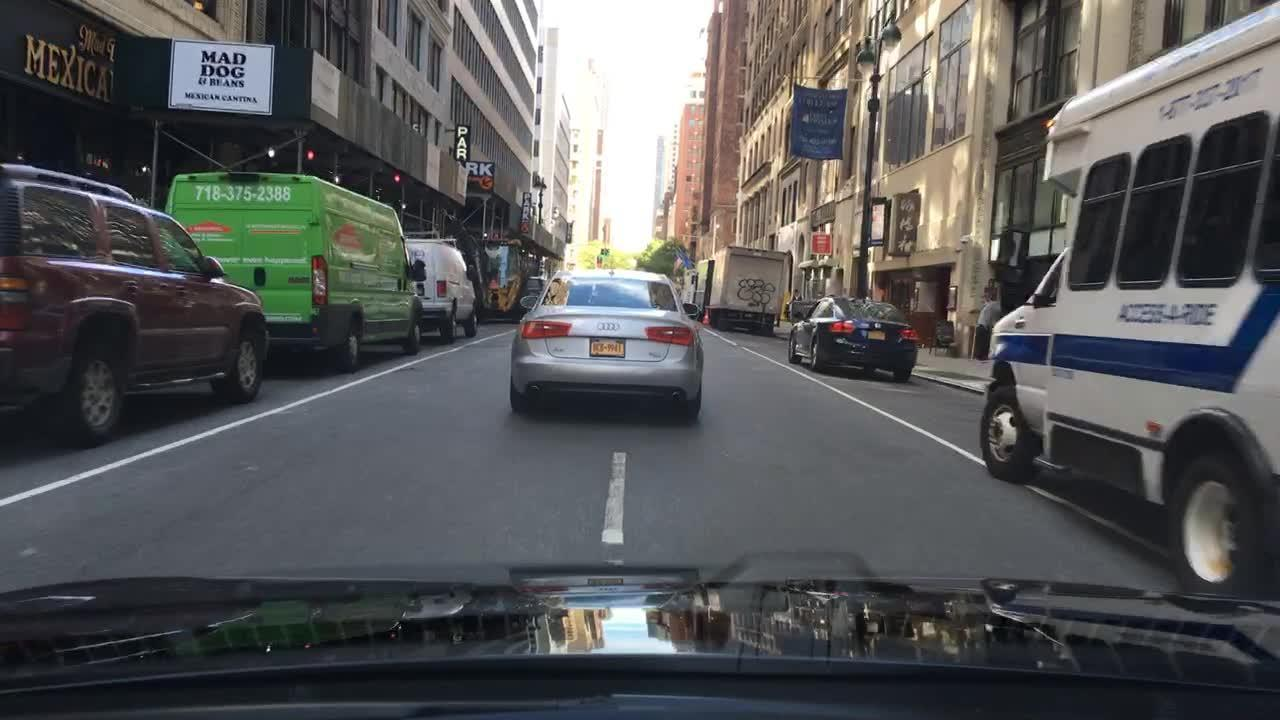Audi: (589, 318, 629, 337)
